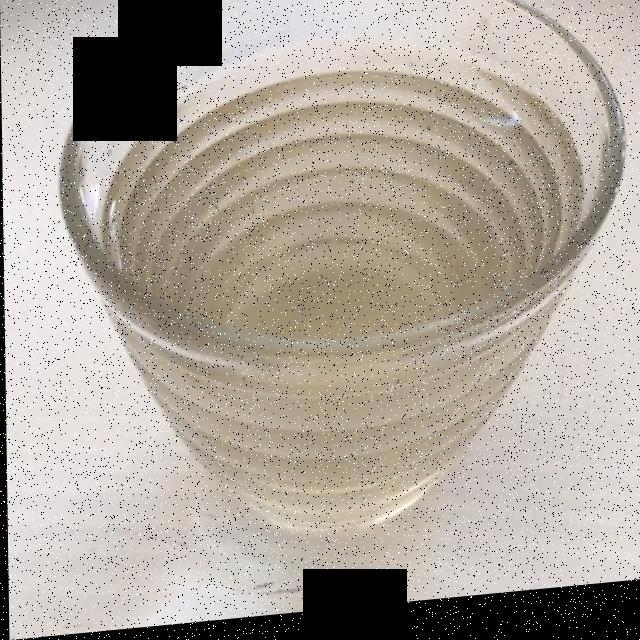tea: (94, 80, 541, 538)
